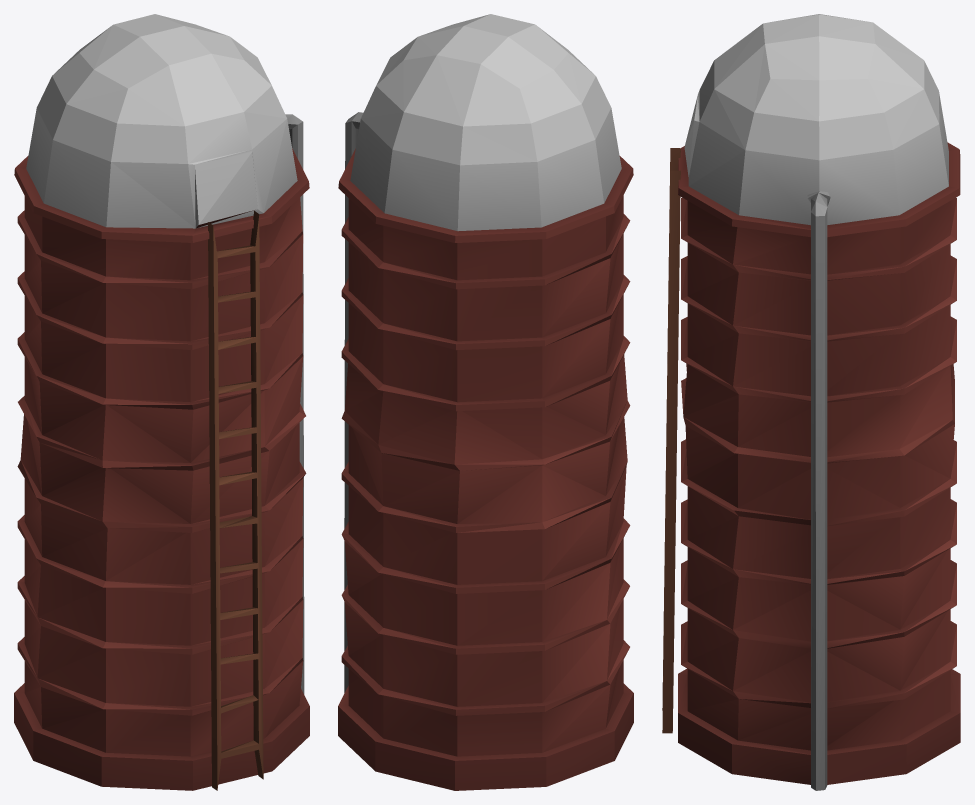
The model's file is farm-silo.glb.
3 views of the same model, side by side, from view 1: azimuth 30°, elevation 25°; view 2: azimuth 150°, elevation 25°; view 3: azimuth 270°, elevation 25° (orthographic).
Visible parts, largest first — view 1: farm-silo; view 2: farm-silo; view 3: farm-silo.
Part boxes in pixels (x1,y1,x2,y2): farm-silo: (14, 14, 309, 790); farm-silo: (338, 14, 633, 790); farm-silo: (662, 14, 960, 790).
Bounding box in the file's own units: 3.64 × 9 × 3.48.
